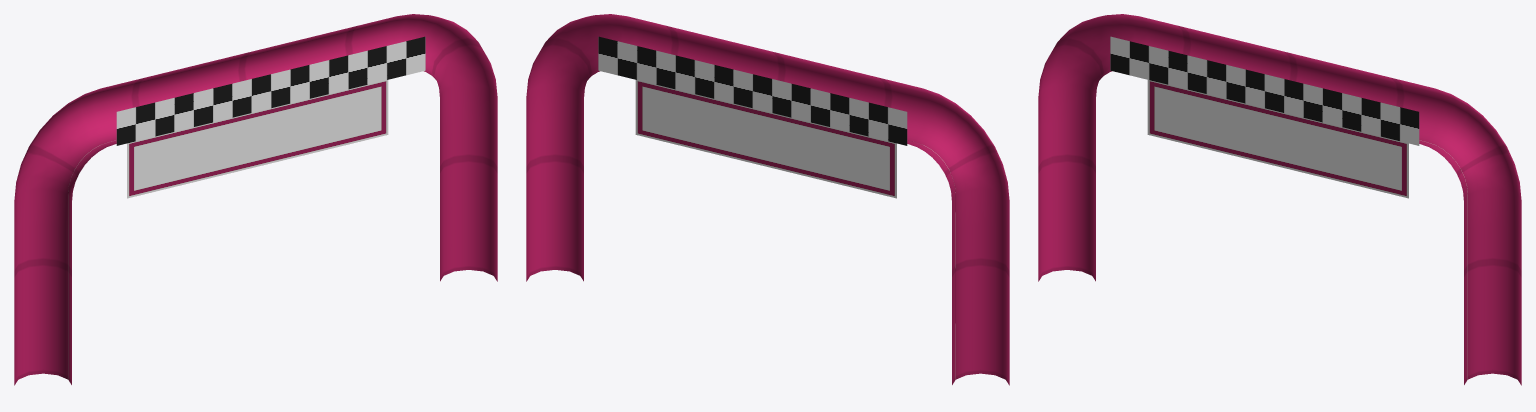
File: SKI_PROP_FinishGate-BAhgDOm9.glb
3 renders of one model, left to right at view 1: azimuth 30°, elevation 25°; view 2: azimuth 150°, elevation 25°; view 3: azimuth 330°, elevation 25°, orthographic.
Visible parts, largest first — view 1: SKI_PROP_FinishGate; view 2: SKI_PROP_FinishGate; view 3: SKI_PROP_FinishGate.
Boxes of the visible parts, bbox=[...] form: SKI_PROP_FinishGate: bbox=[14, 14, 497, 385]; SKI_PROP_FinishGate: bbox=[526, 14, 1009, 385]; SKI_PROP_FinishGate: bbox=[1038, 14, 1521, 385].
Size of the model in its own units: 8 by 4.5 by 0.88.
1 material, 1 textured.
